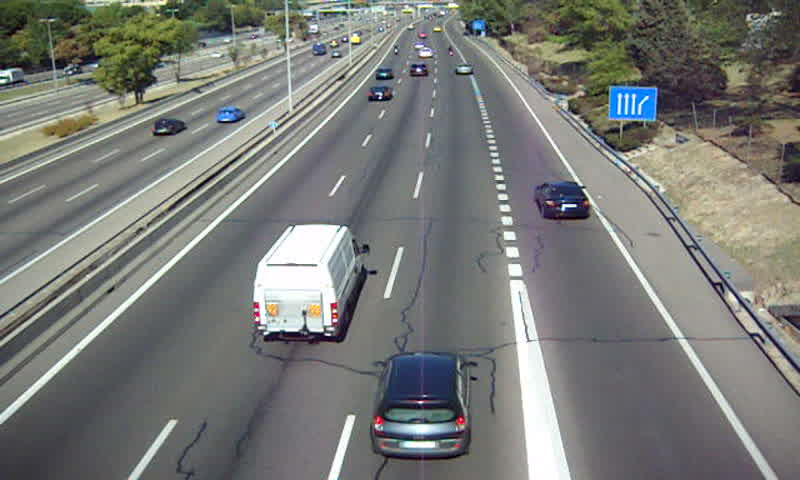car: (372, 353, 471, 459), (535, 183, 590, 219), (367, 85, 391, 102), (374, 66, 396, 81), (408, 63, 427, 78), (453, 62, 473, 75), (417, 47, 436, 58)
van: (253, 224, 369, 341)
